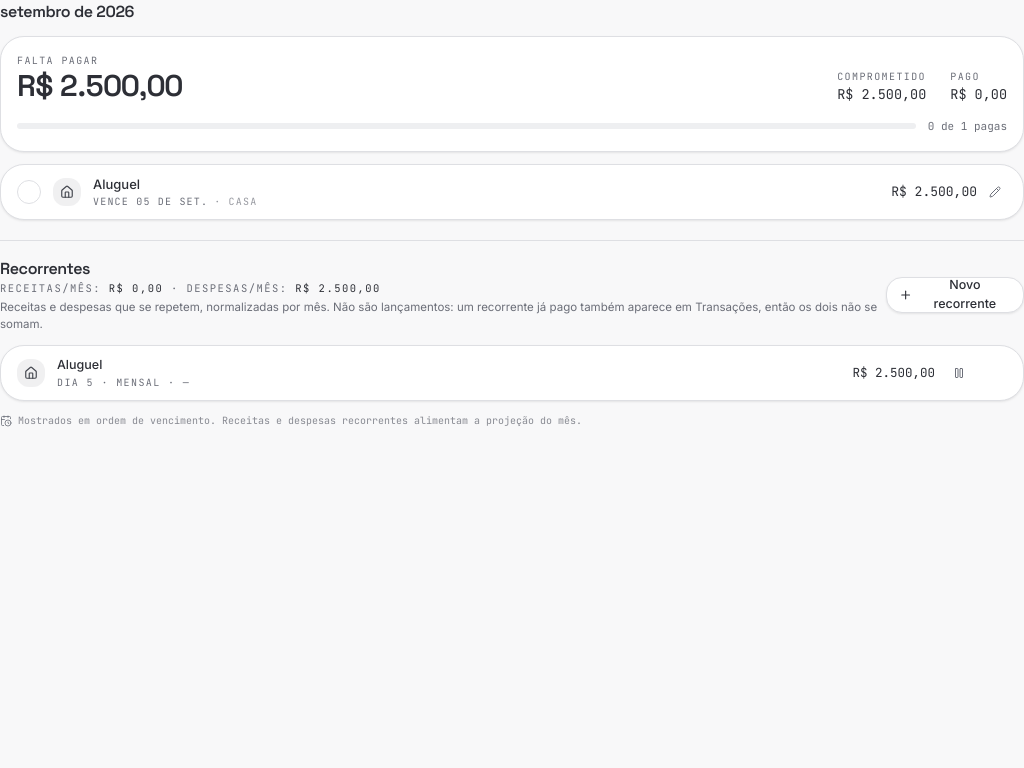
Test: recurring form · a failed CREATE never looks like success › keeps the dialog open with the values and a visible error
Check: the text "Falta pagar" is shown, box x1=17 y1=54 x2=98 y2=67
Click the button "Novo recorrente": (955, 295) x1=886 y1=277 x2=1023 y2=313
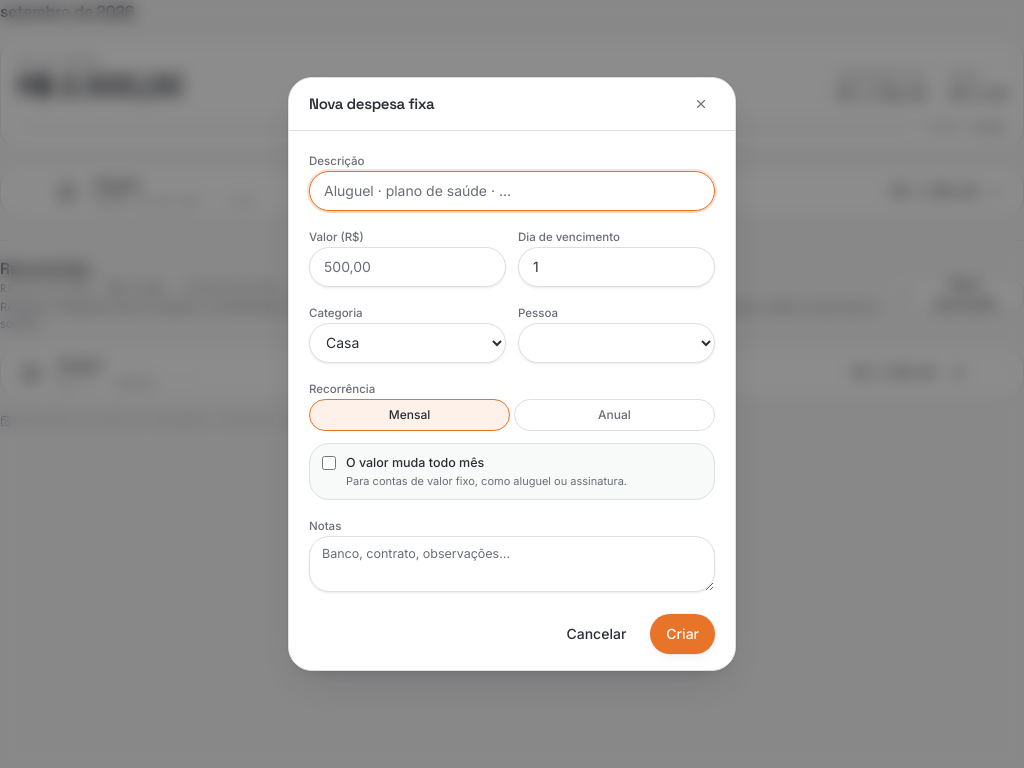
Check: the dialog is shown, box x1=288 y1=77 x2=736 y2=671
In the field with placeholder "Aluguel · plano de saúde · …": (512, 191) x1=309 y1=171 x2=715 y2=211, type "BETA teste"
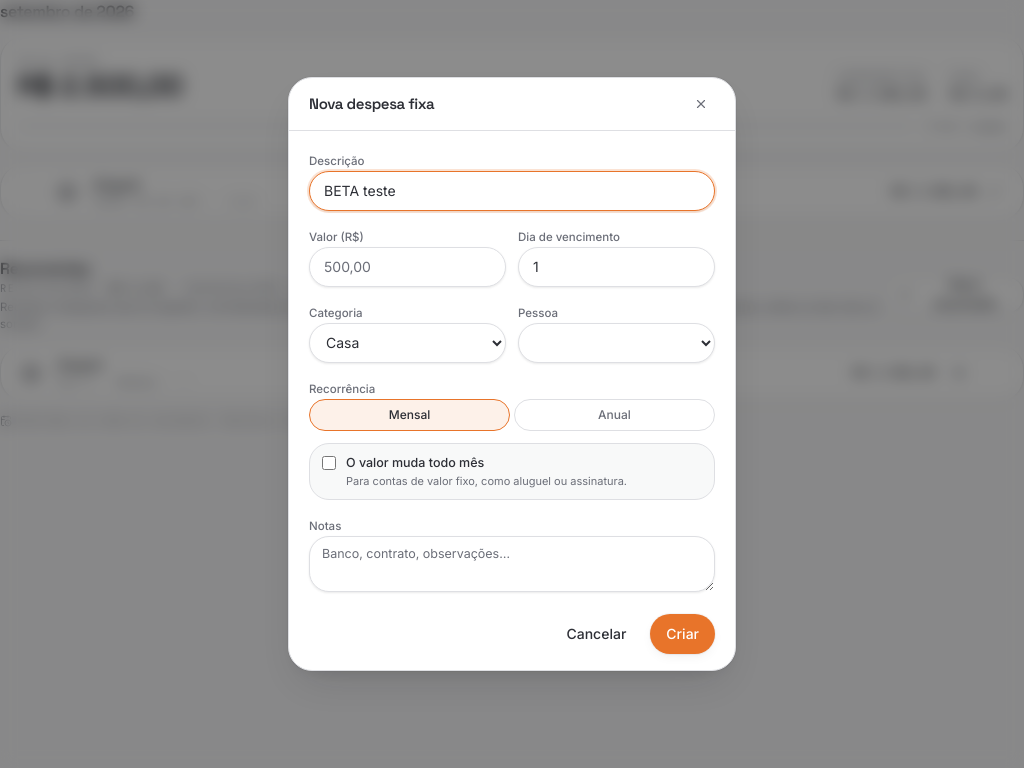
In the field with placeholder "500,00": (408, 267) x1=309 y1=247 x2=506 y2=287, type "1234,56"
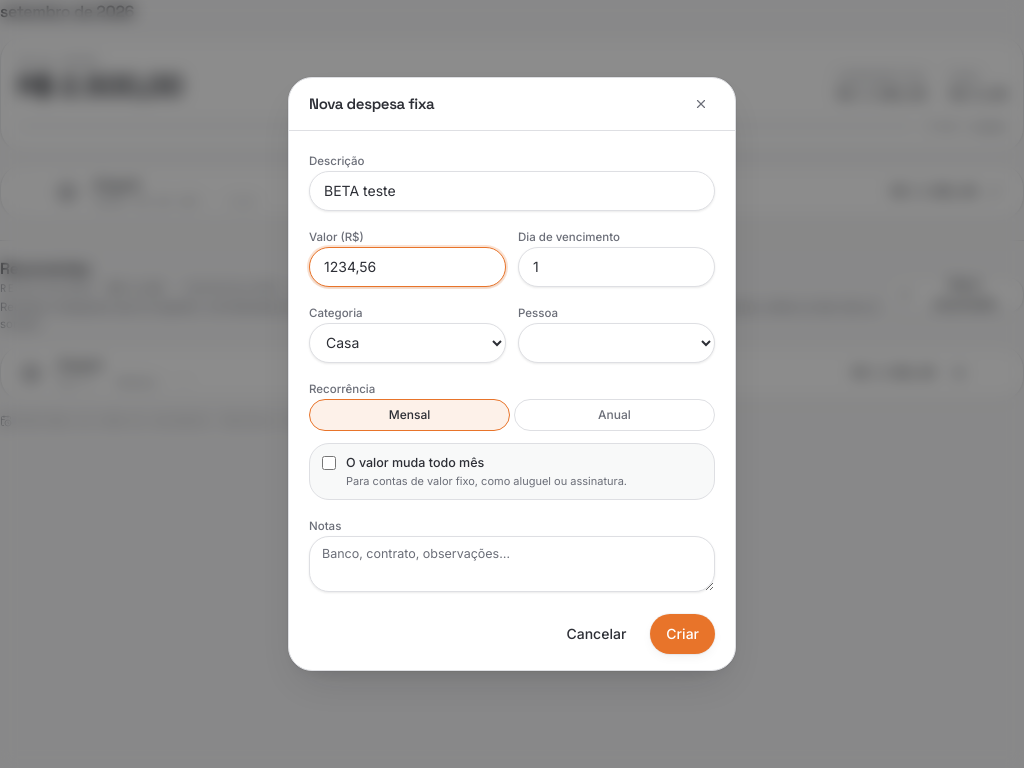
Click the button "Criar": (683, 634) x1=650 y1=614 x2=715 y2=654
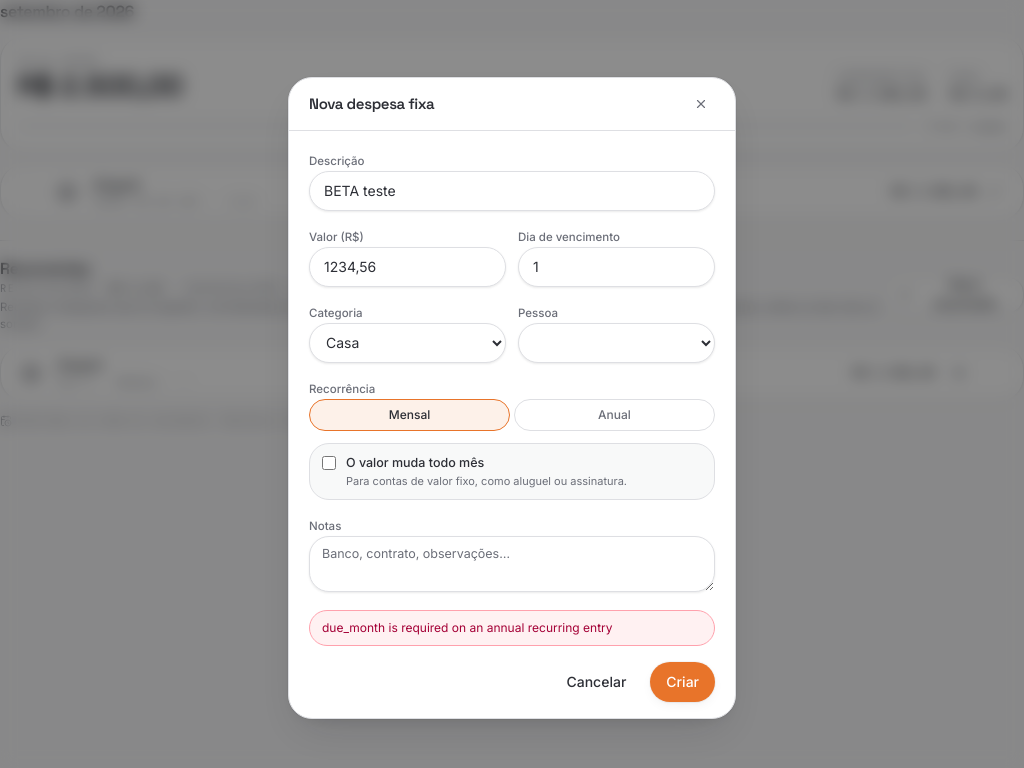
Check: the dialog is shown, box x1=288 y1=77 x2=736 y2=719
Check: the message shows "due_month is required", box x1=322 y1=620 x2=612 y2=634
